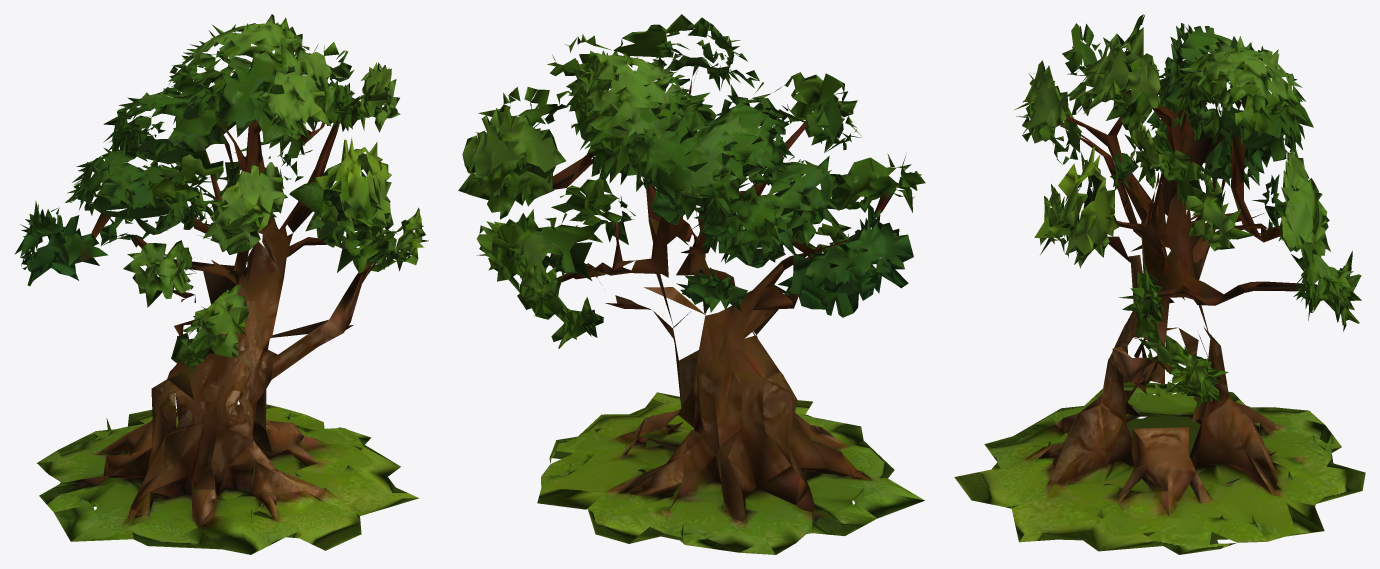
File: tripo-carvalho153.glb
3 renders of one model, left to right at view 1: azimuth 30°, elevation 25°; view 2: azimuth 150°, elevation 25°; view 3: azimuth 270°, elevation 25°, orthographic. The views are drawn at different scales.
Parts seen in each view (by area): view 1: tripo_node_1be1100f-a075-4daa-8b85-816c6203dff2; view 2: tripo_node_1be1100f-a075-4daa-8b85-816c6203dff2; view 3: tripo_node_1be1100f-a075-4daa-8b85-816c6203dff2.
Boxes of the visible parts, x1,y1,x2,y2 form: tripo_node_1be1100f-a075-4daa-8b85-816c6203dff2: (14, 14, 428, 554); tripo_node_1be1100f-a075-4daa-8b85-816c6203dff2: (458, 14, 925, 554); tripo_node_1be1100f-a075-4daa-8b85-816c6203dff2: (954, 14, 1365, 554).
Size of the model in its own units: 0.9705 by 0.9586 by 0.7554.
1 material, 1 textured.
